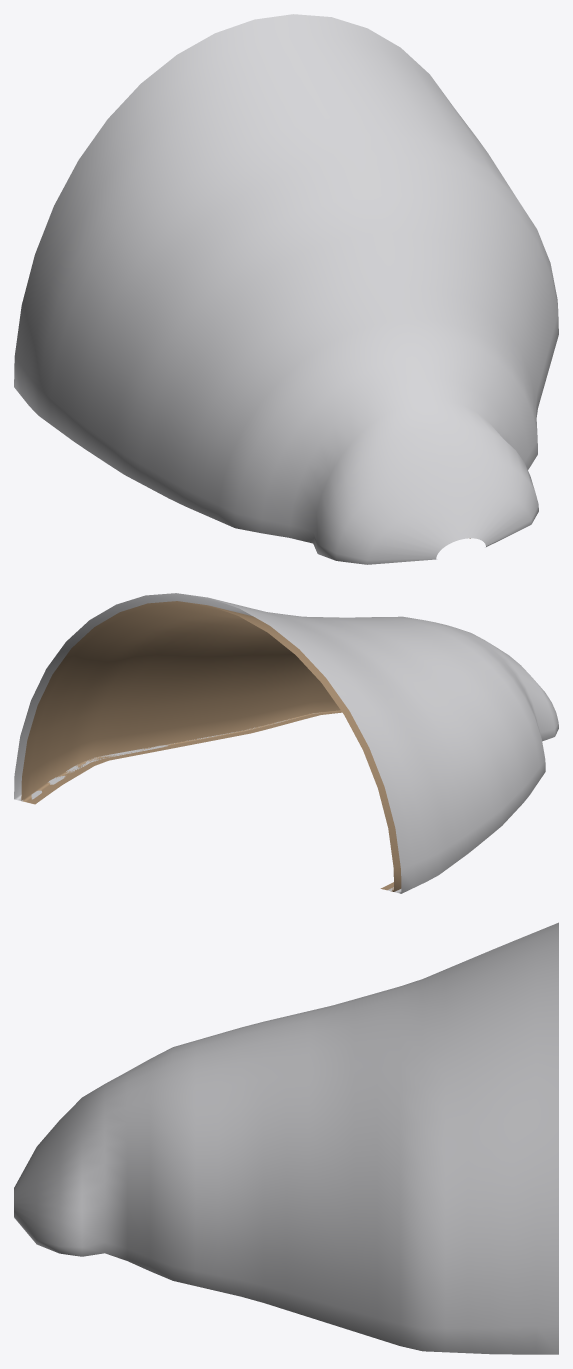
File: SabatonLeanToe_L.glb
The picture shows the model from 3 angles, top to bottom: view 1: azimuth 30°, elevation 25°; view 2: azimuth 150°, elevation 25°; view 3: azimuth 270°, elevation 25°; orthographic projection. The views are drawn at different scales.
Parts seen in each view (by area): view 1: SabatonLeanToe_L; view 2: SabatonLeanToe_L; view 3: SabatonLeanToe_L.
Part boxes in pixels (<box>): SabatonLeanToe_L: <box>14,14,558,564</box>; SabatonLeanToe_L: <box>14,593,558,893</box>; SabatonLeanToe_L: <box>14,922,558,1354</box>.
Bounding box in the file's own units: 0.1337 × 0.0803 × 0.133.
